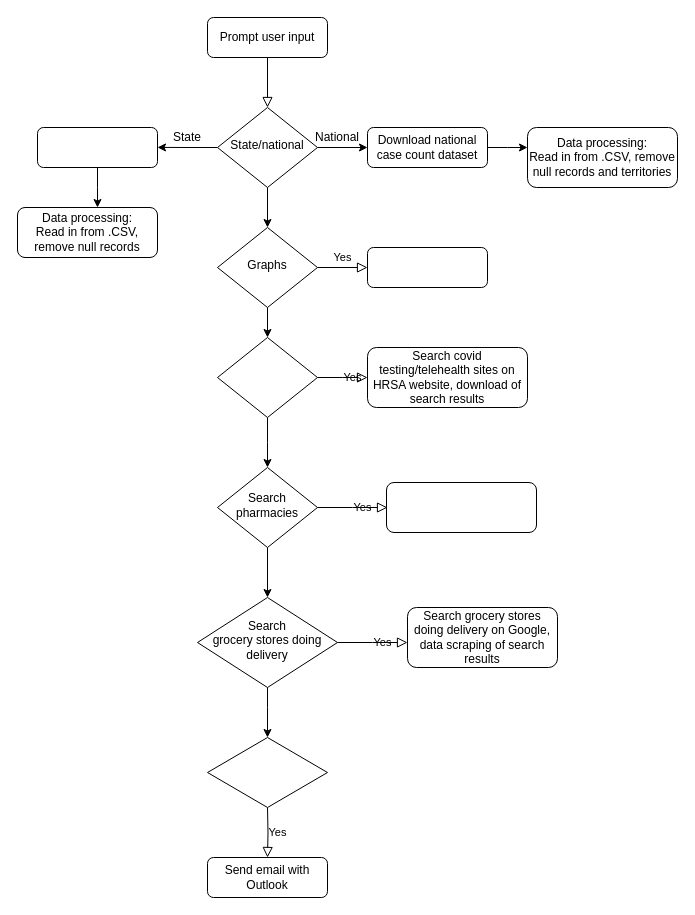
Some shapes in this 695 by 915 pixel diagram are drawn without their labels. The shapes that lost their labels are listed below. From the top down, each one's box as (x1, y1, x2, y2) in pixels, then its label:
(36, 126, 158, 168): Download state case count dataset
(366, 246, 488, 288): Generate line graphs of CDC data in Excel
(216, 336, 318, 418): Search testing/telehealth sites
(386, 482, 536, 532): Search pharmacies on Google, data scraping of search results
(206, 736, 328, 808): Send email
